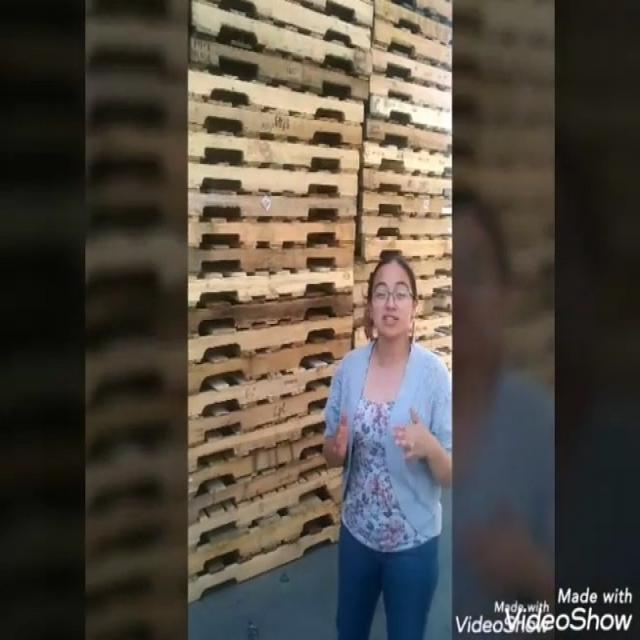Palette: (187, 0, 375, 616), (361, 0, 451, 256)
